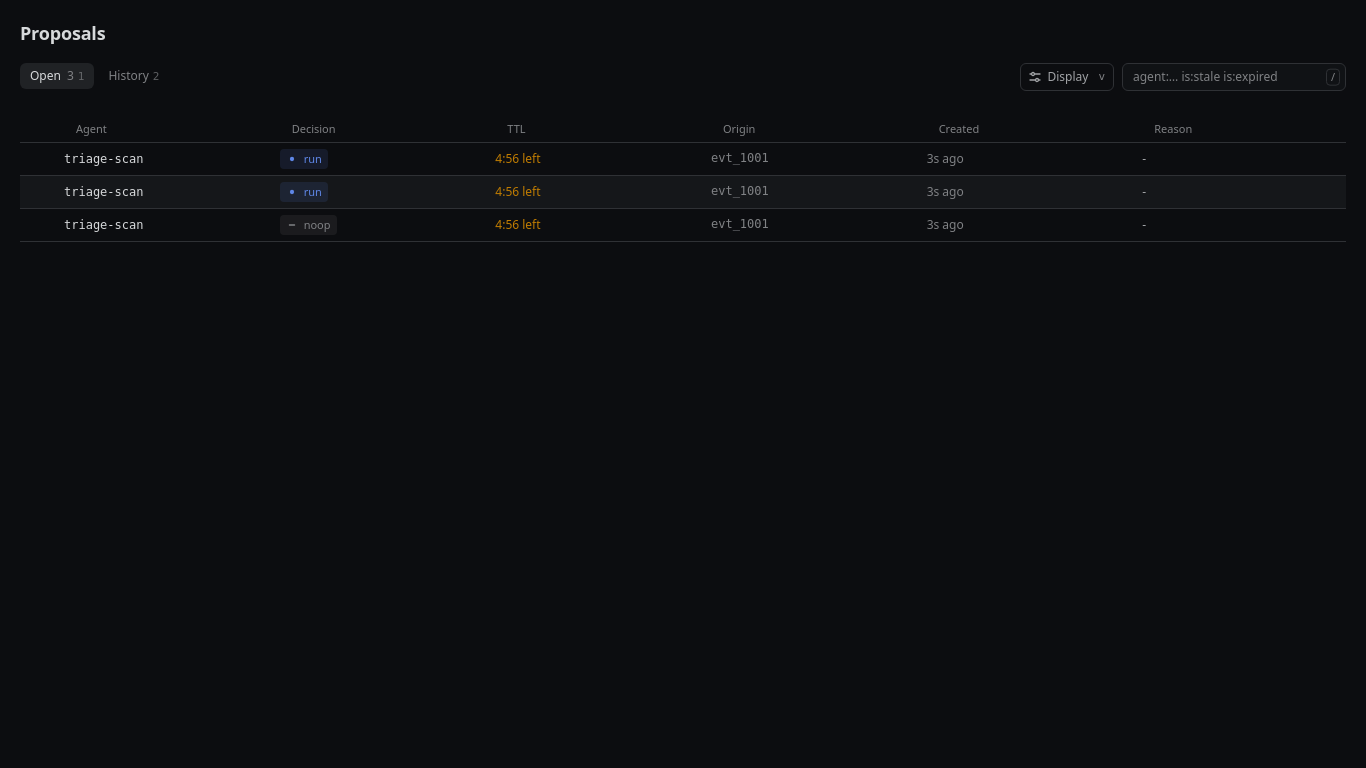
Test: Proposals multi-row selection & bulk actions (WM-71) › bulk approve approves actionable proposals and skips non-actionable rows
This screenshot has width=1366, height=768.
Expected: the checkbox named "Select proposal prop_1" is shown, x1=20 y1=143 x2=52 y2=176
Select all 3
Click the checkbox named "Select all proposals" at (36, 129), box x1=20 y1=115 x2=52 y2=143
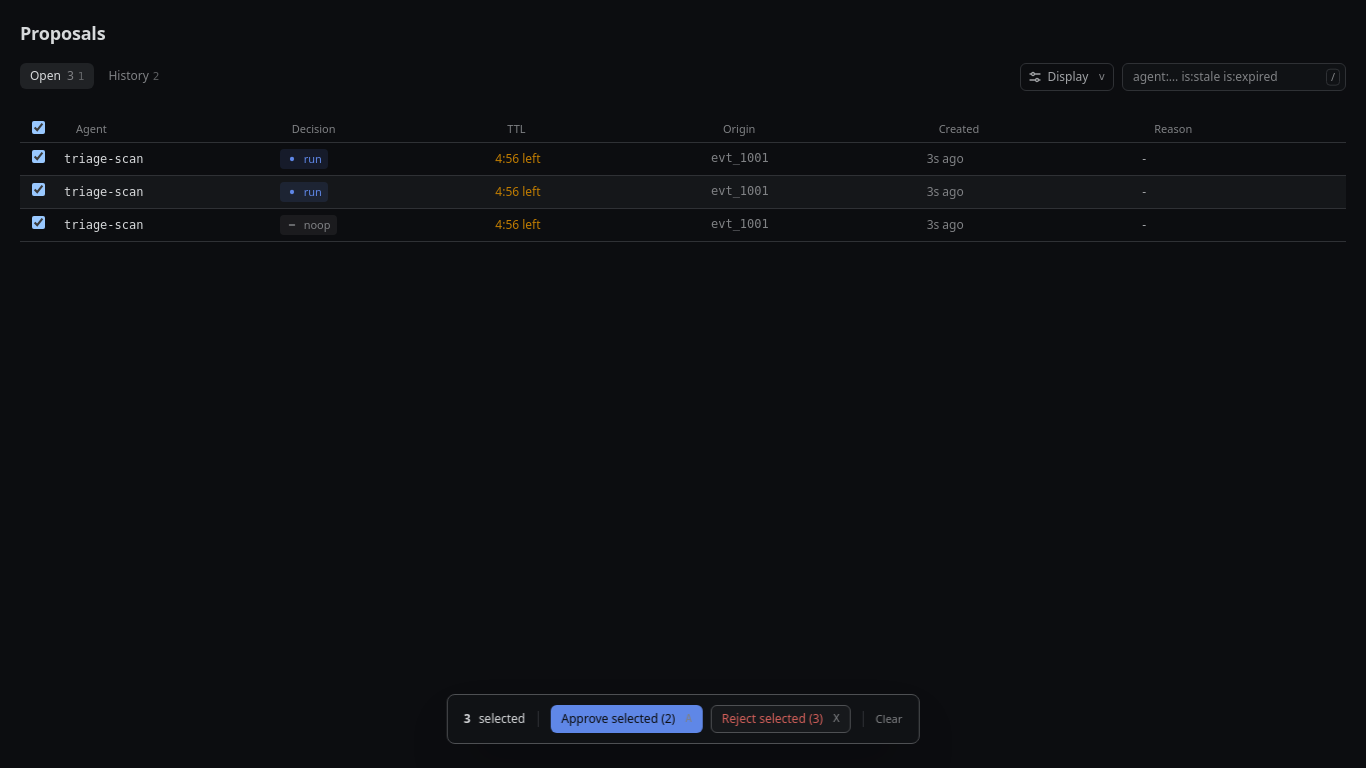
Click Approve selected — confirm must appear before any POST
Click the button "Approve selected (2) A" at (626, 719), box x1=550 y1=705 x2=703 y2=733
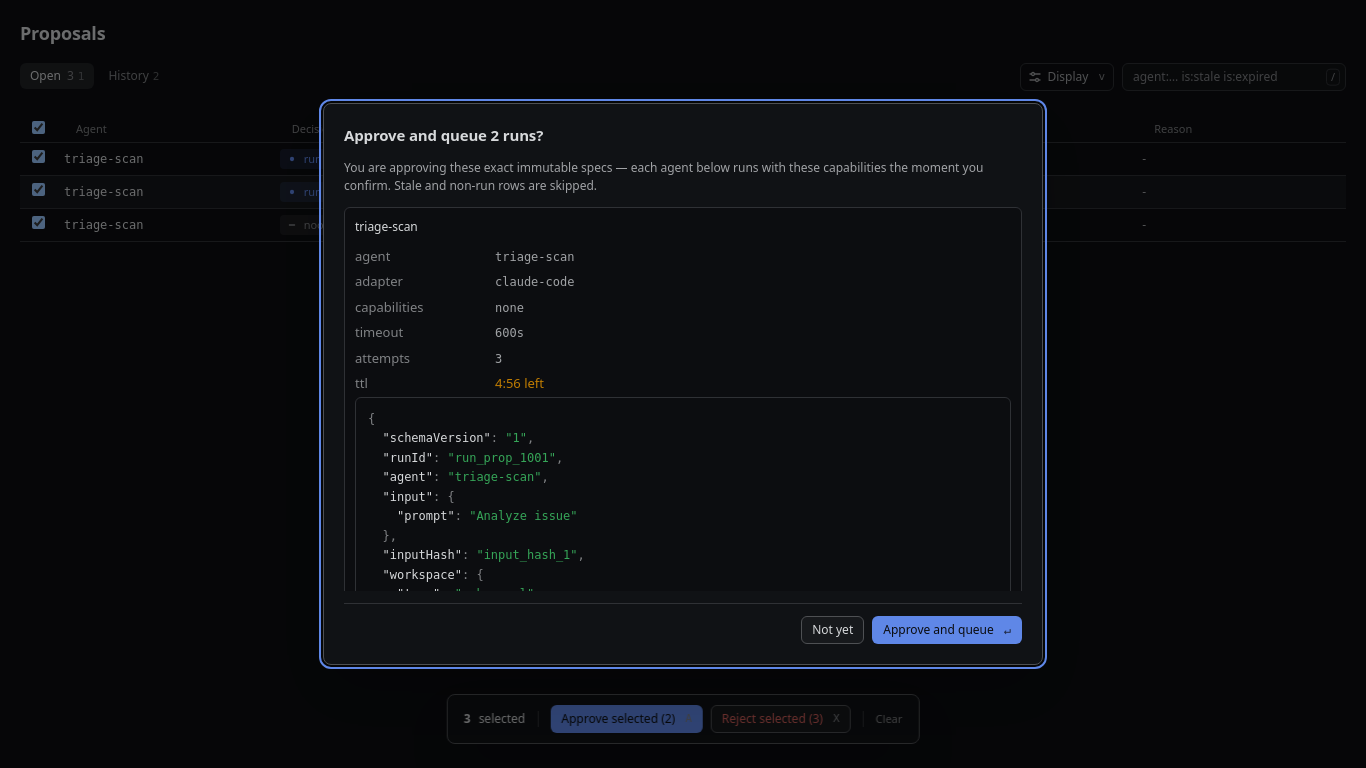
Click the button "Approve and queue ↵" at (947, 630), box x1=872 y1=616 x2=1022 y2=644
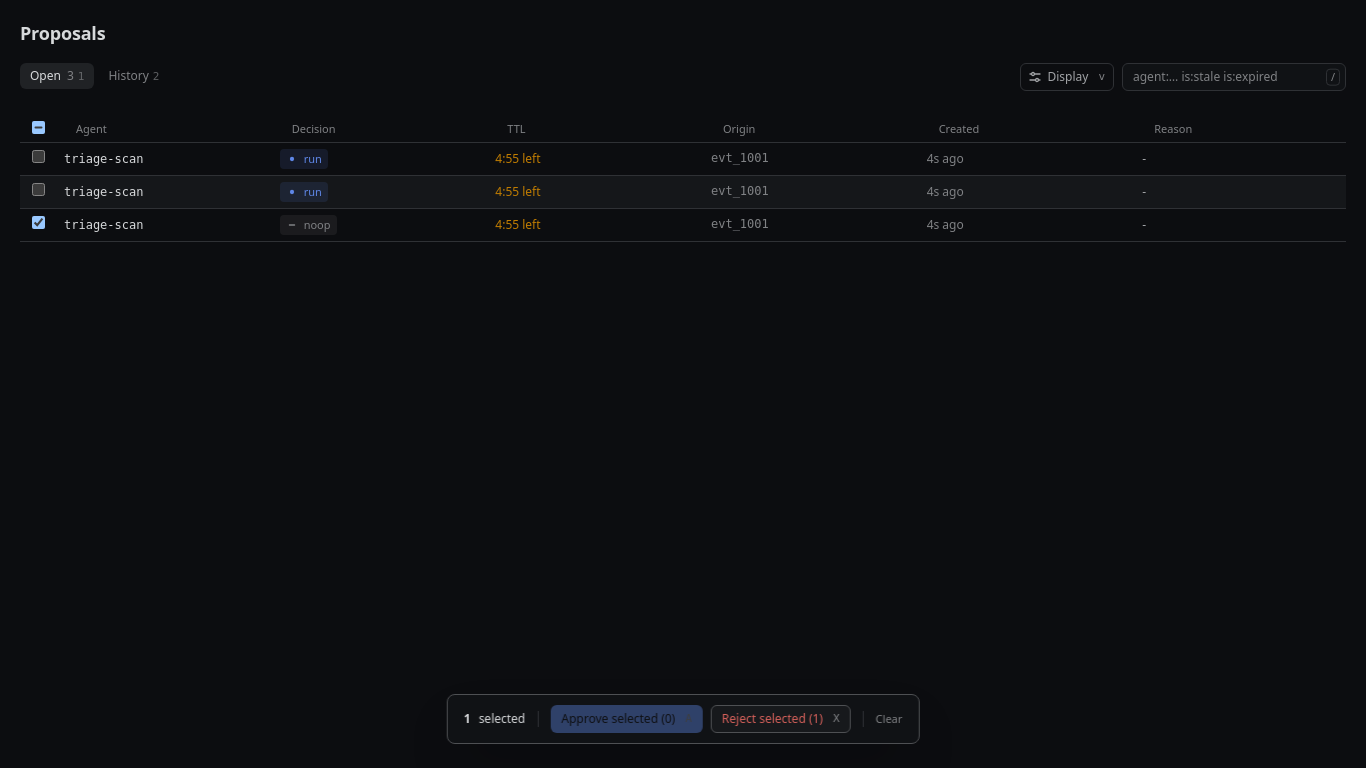
Expected: the checkbox named "Select proposal prop_3" is checked, x1=32 y1=216 x2=45 y2=229
Expected: the checkbox named "Select proposal prop_1" is not checked, x1=32 y1=150 x2=45 y2=163
Expected: the checkbox named "Select proposal prop_2" is not checked, x1=32 y1=183 x2=45 y2=196
